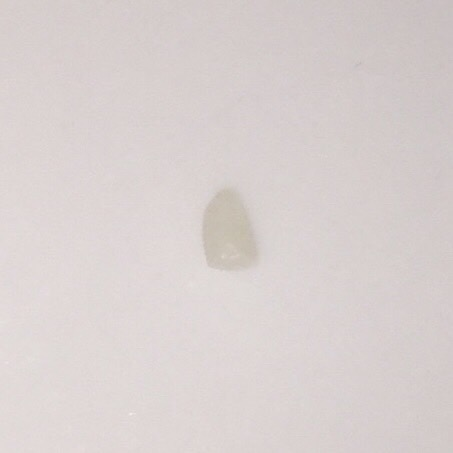Gao Tam: (197, 180, 258, 278)
